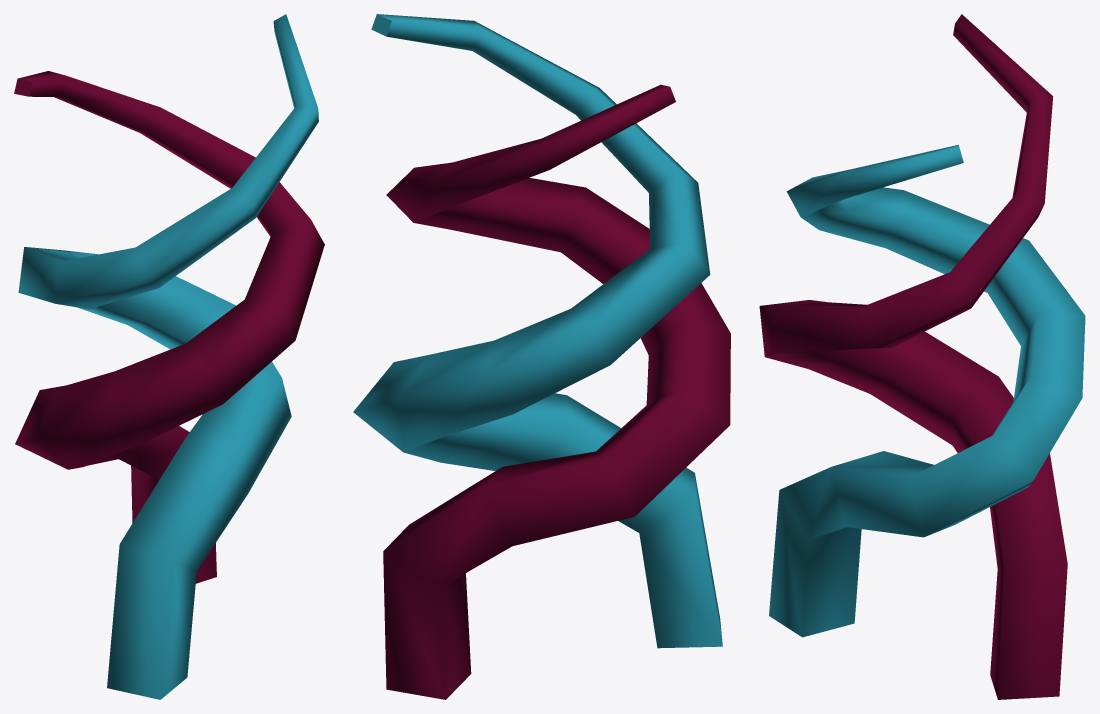
File: Plant_2.gltf
3 renders of one model, left to right at view 1: azimuth 30°, elevation 25°; view 2: azimuth 150°, elevation 25°; view 3: azimuth 270°, elevation 25°, orthographic. The views are drawn at different scales.
Visible parts, largest first — view 1: Plant_2; view 2: Plant_2; view 3: Plant_2.
Boxes of the visible parts, left/top/right/bottom form: Plant_2: left=14, top=14, right=324, bottom=699; Plant_2: left=353, top=14, right=730, bottom=699; Plant_2: left=759, top=14, right=1085, bottom=699.
Size of the model in its own units: 1.06 by 1.97 by 1.01.
Materials: 1 (1 with a texture image).
